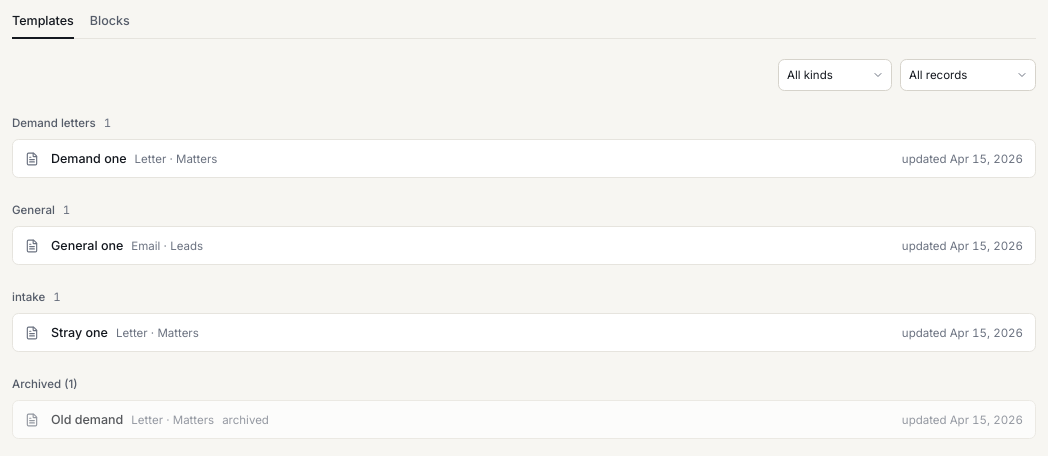
it: TemplateLibrary › filters by kind and applies-to
Select "Email" in the dropdown named "Kind" at coordinates (835, 75), box [778,59,892,91]
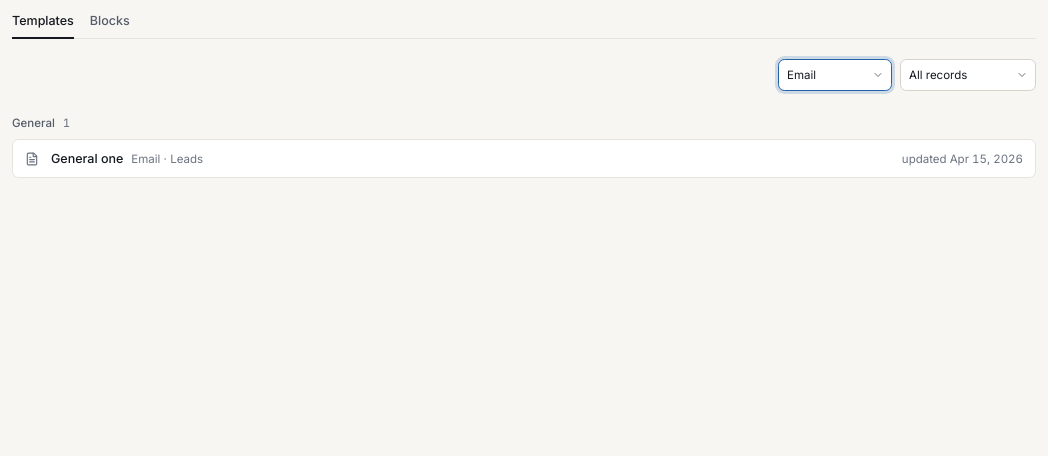
Check: the link "General one" is shown, box [51,150,123,167]
Check: the link "Demand one" is gone
Select "All kinds" in the dropdown named "Kind" at coordinates (835, 75), box [778,59,892,91]
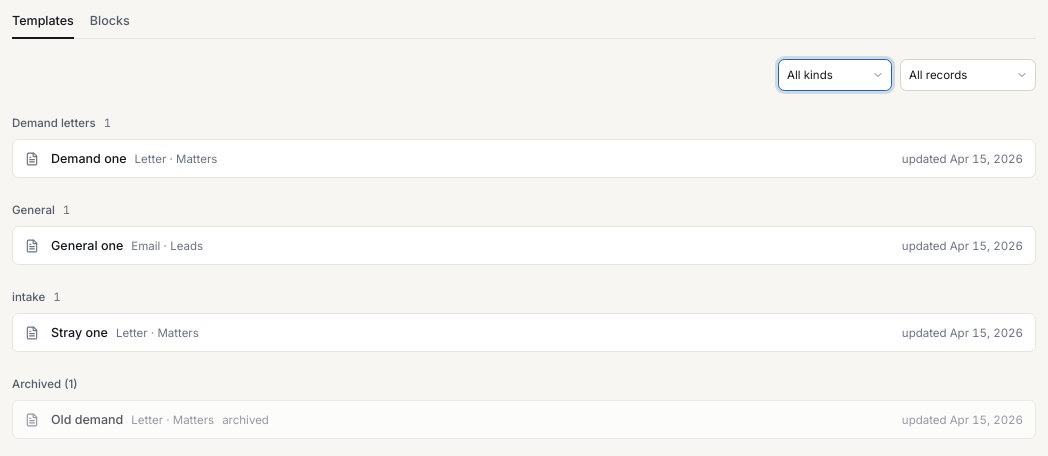
Select "Matters" in the dropdown named "Applies to" at coordinates (968, 75), box [900,59,1036,91]
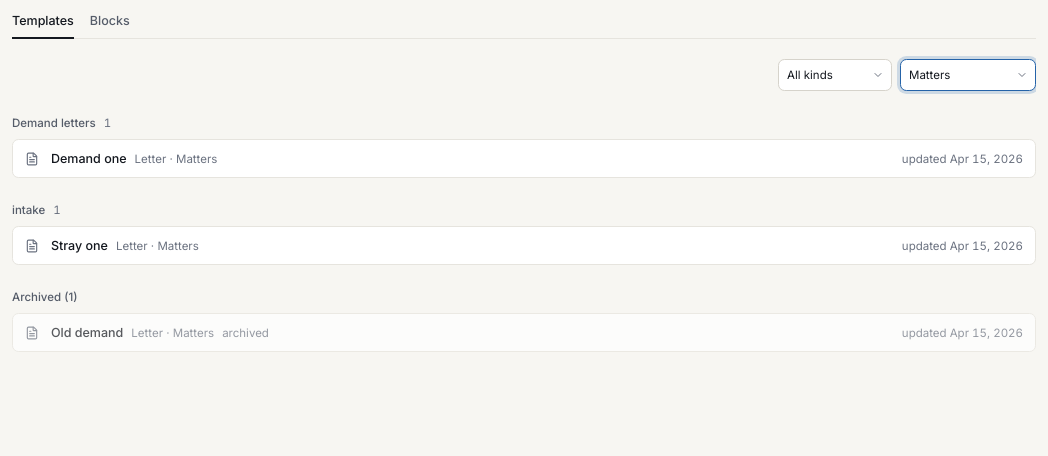
Check: the link "Demand one" is shown, box [51,150,127,167]
Check: the link "General one" is gone
